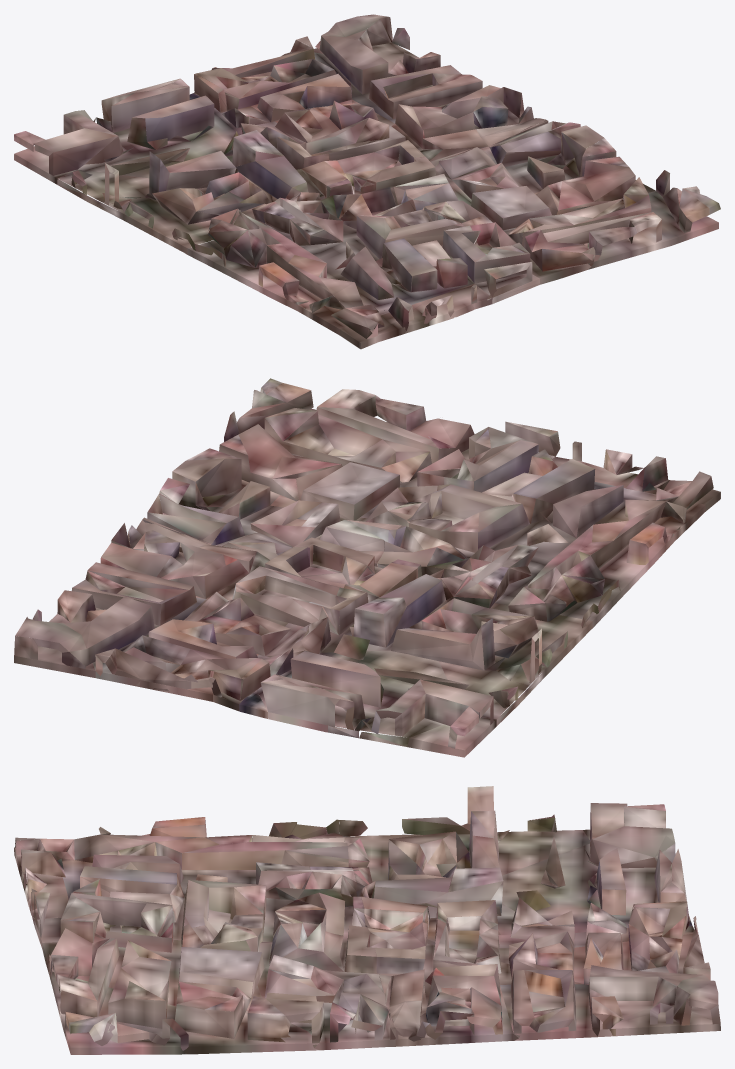
The picture shows the model from 3 angles, top to bottom: view 1: azimuth 30°, elevation 25°; view 2: azimuth 150°, elevation 25°; view 3: azimuth 270°, elevation 25°; orthographic projection. The views are drawn at different scales.
Visible parts, largest first — view 1: Mesh_0; view 2: Mesh_0; view 3: Mesh_0.
Part boxes in pixels (x1,y1,x2,y2): Mesh_0: (14,14,720,349); Mesh_0: (14,378,720,757); Mesh_0: (14,786,720,1054).
Bounding box in the file's own units: 535 × 57.25 × 659.
Materials: 2 (2 with a texture image).
